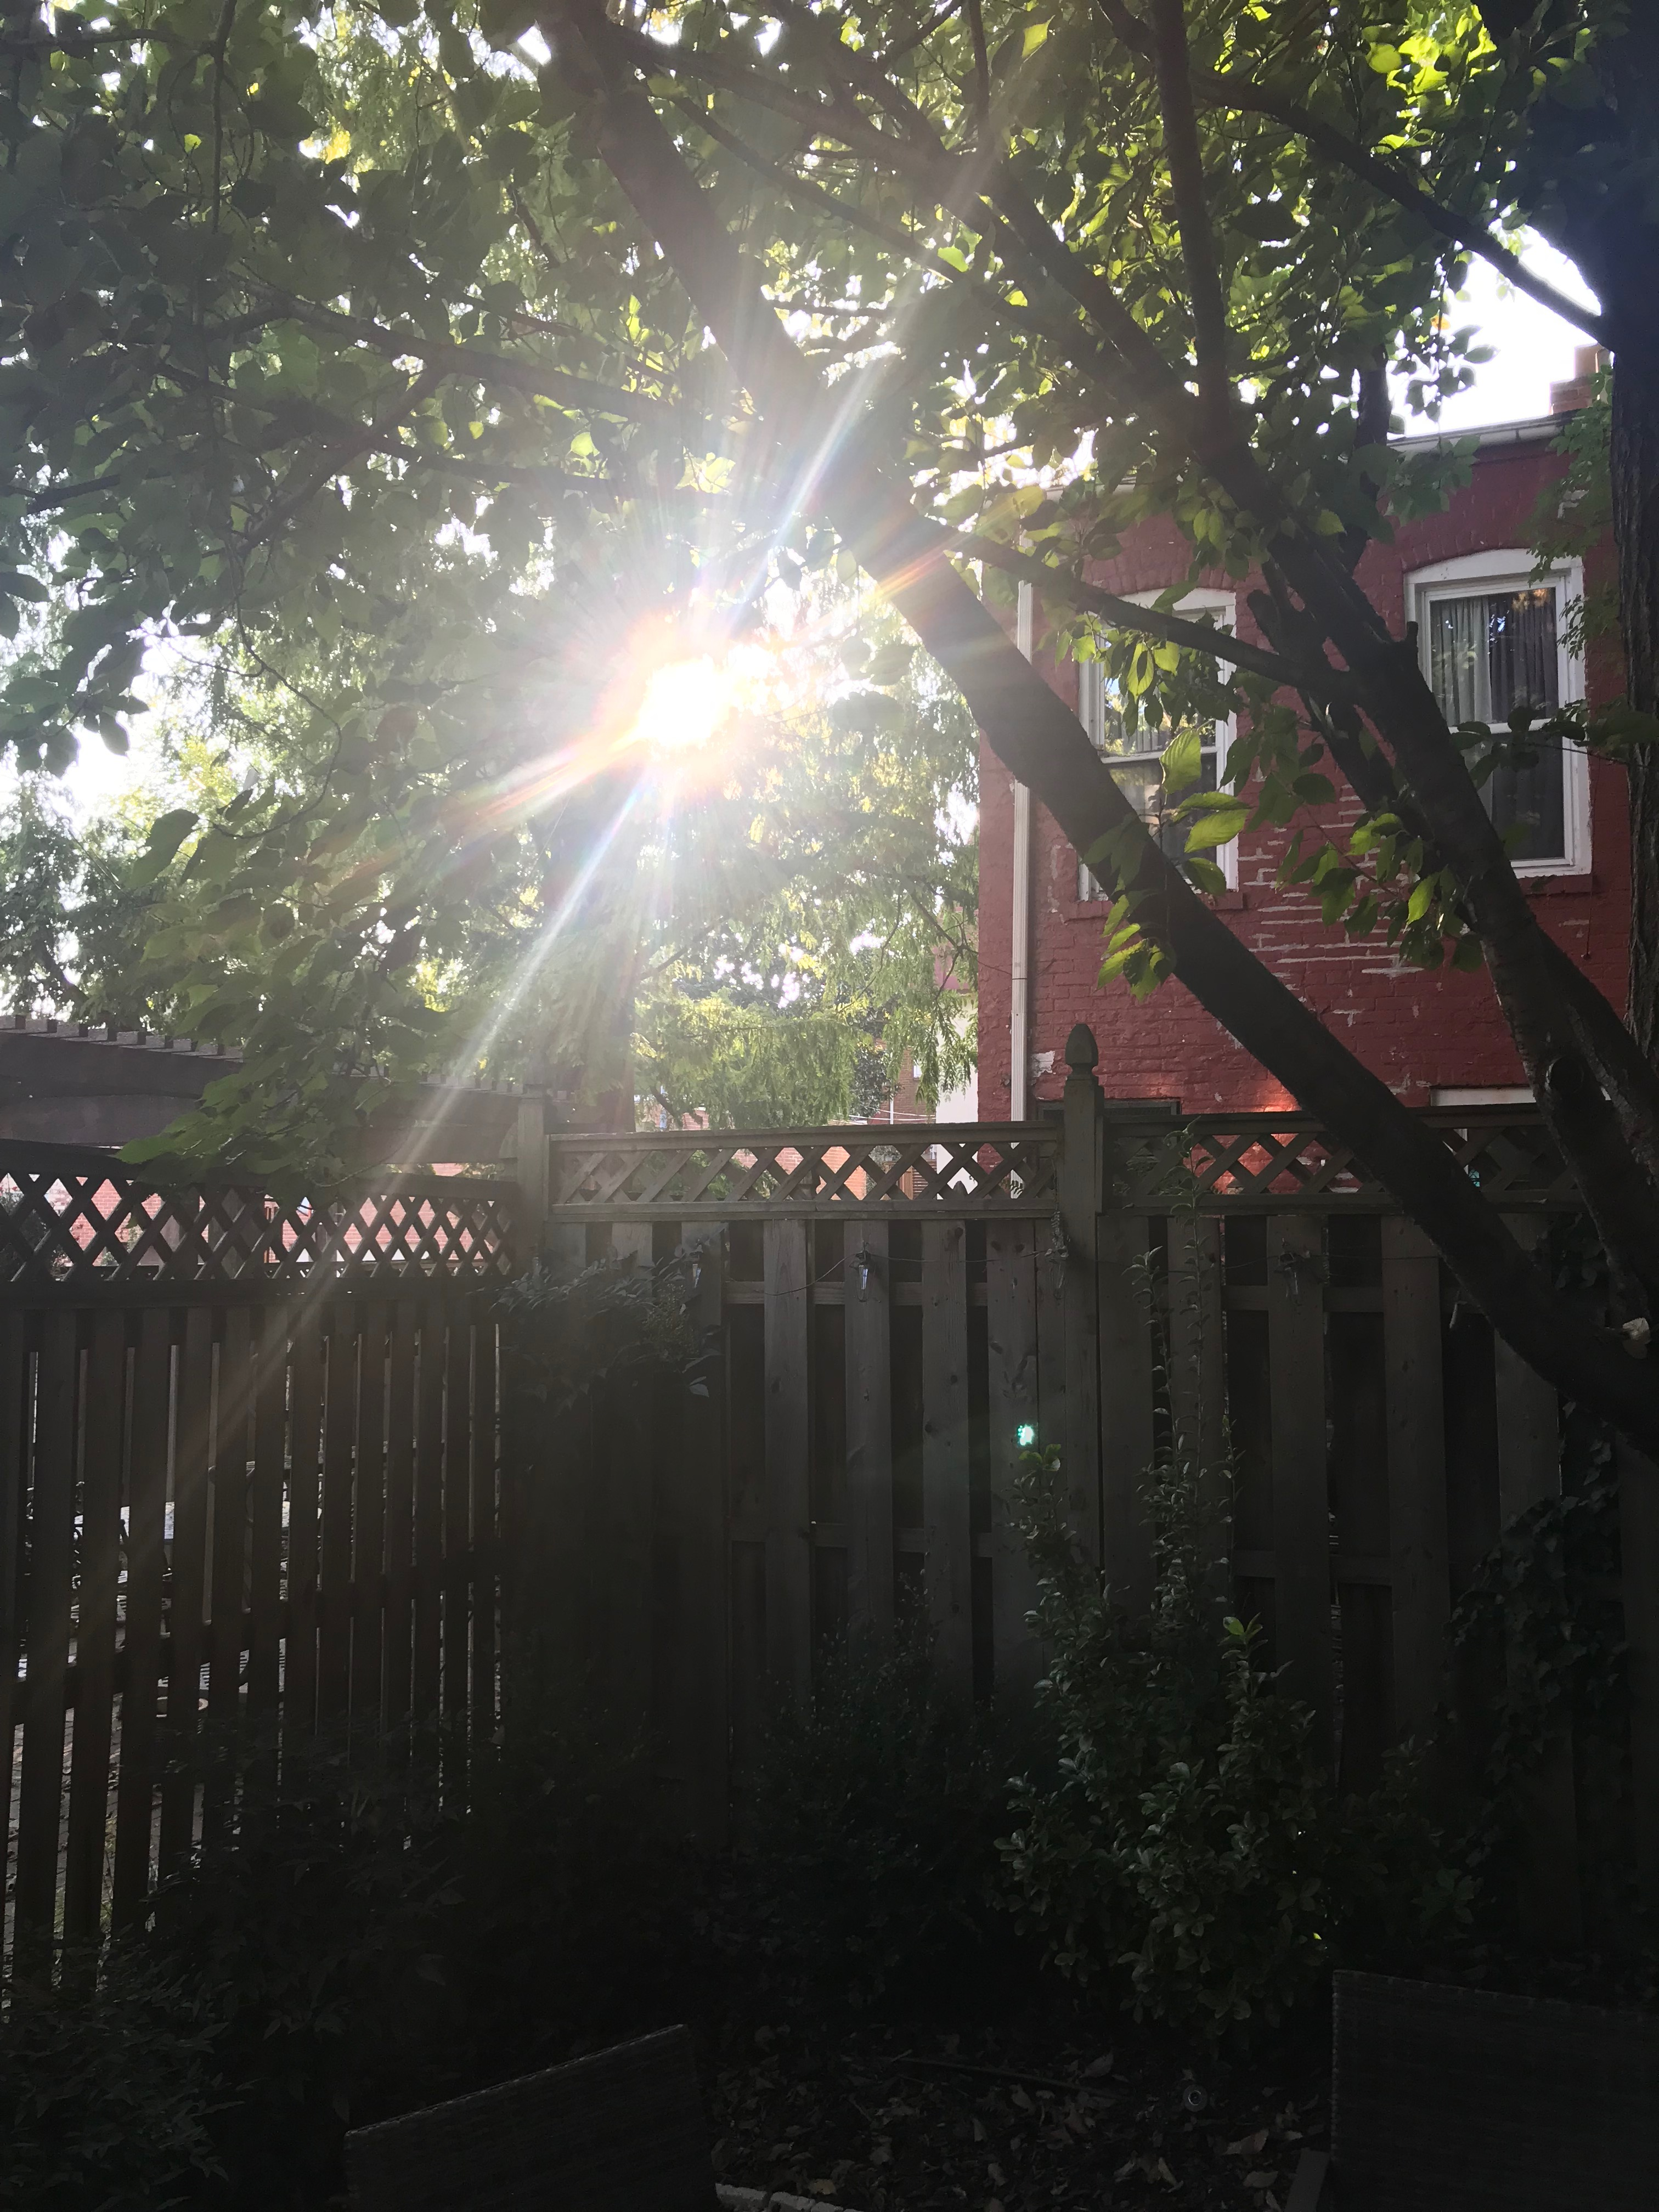flare: (1012, 1421, 1039, 1449)
